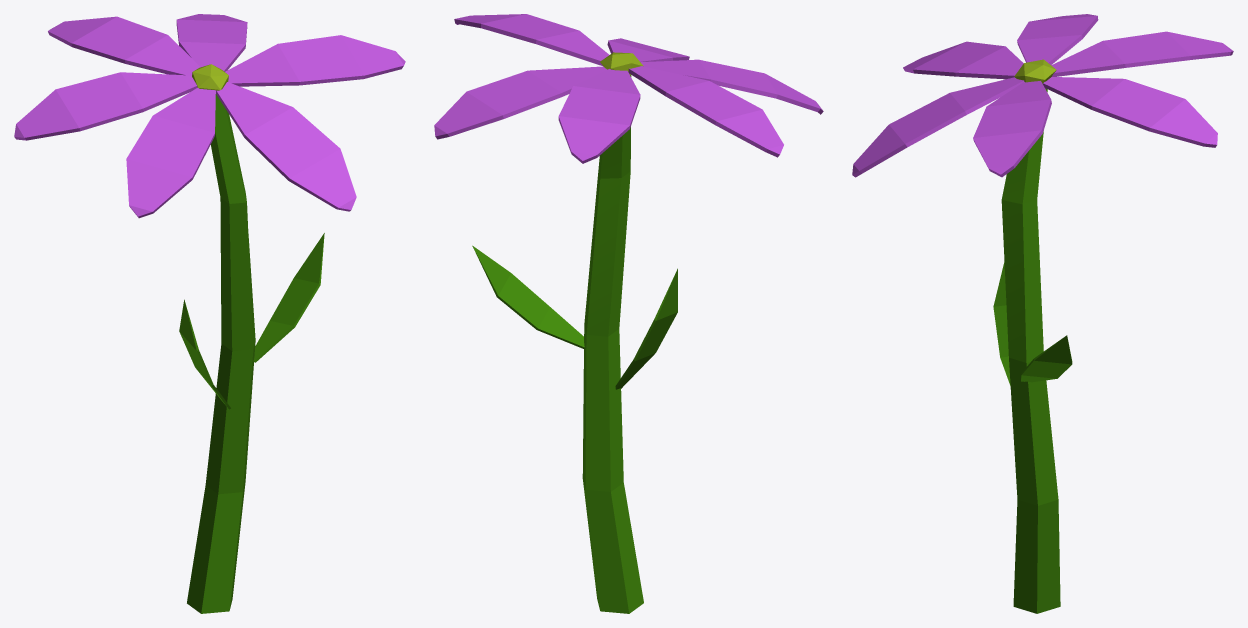
File: Flower_g_a_03.fbx
3 views of the same model, side by side, from view 1: azimuth 30°, elevation 25°; view 2: azimuth 150°, elevation 25°; view 3: azimuth 270°, elevation 25° (orthographic). The views are drawn at different scales.
Visible parts, largest first — view 1: Flower_g_a_03_LOD0; view 2: Flower_g_a_03_LOD0; view 3: Flower_g_a_03_LOD0.
Part boxes in pixels (x1,y1,x2,y2): Flower_g_a_03_LOD0: (14,14,405,613); Flower_g_a_03_LOD0: (434,14,823,613); Flower_g_a_03_LOD0: (852,14,1233,613).
Size of what is drawn, in the model's own units: 1.98 by 2.88 by 1.84.
